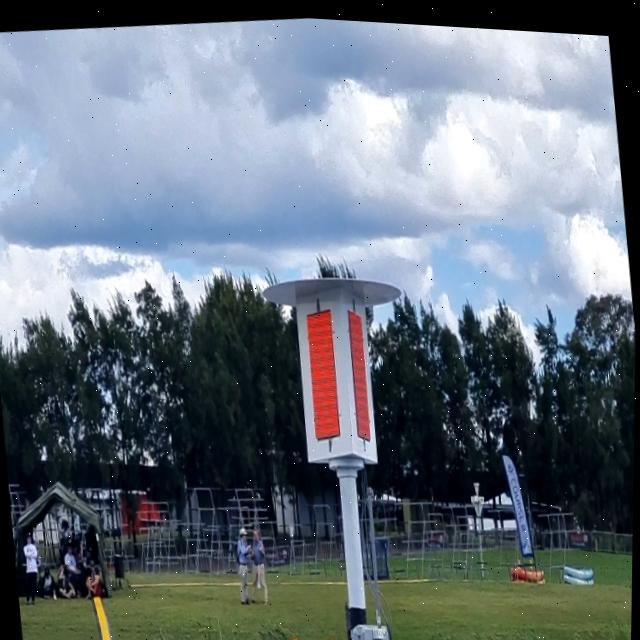led: (296, 289, 349, 439), (342, 290, 377, 450)
